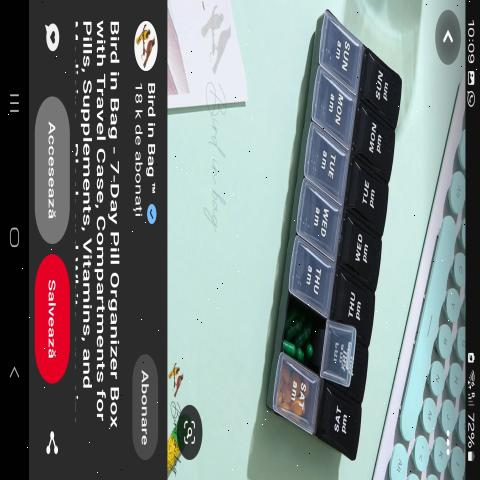PillBox: (258, 9, 408, 461)
